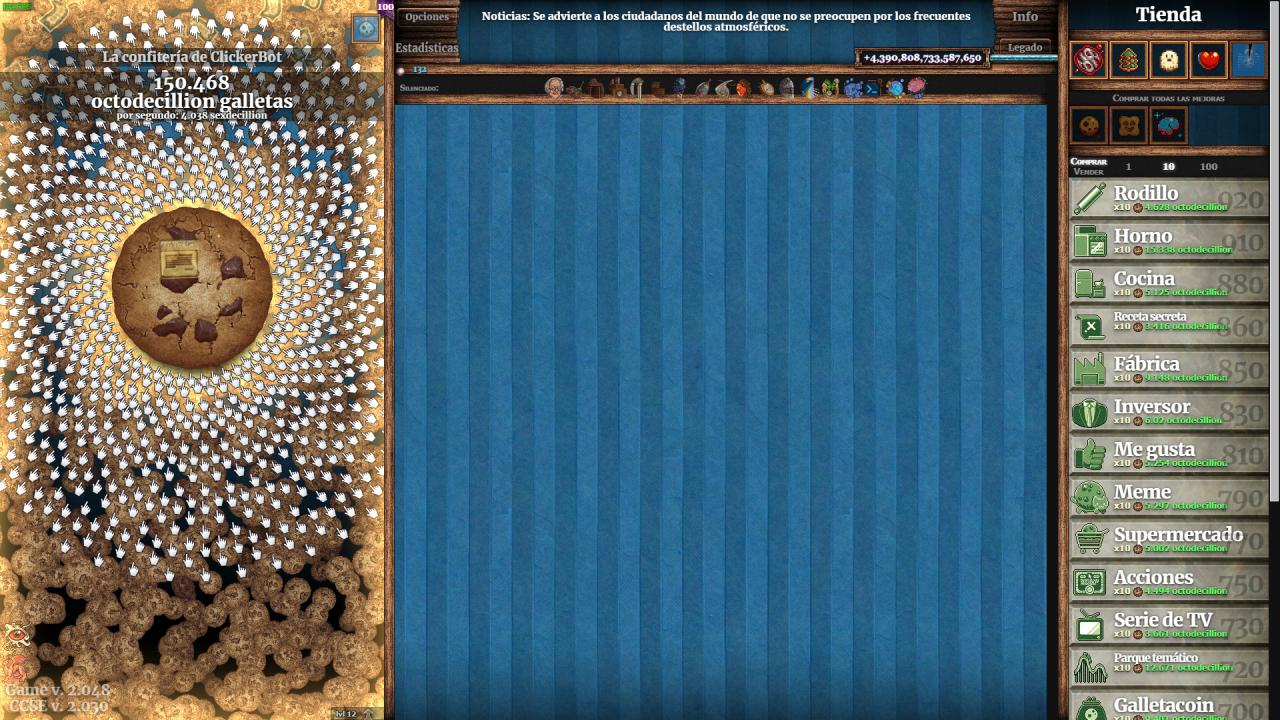GoldenCartridge: (158, 238, 202, 281)
